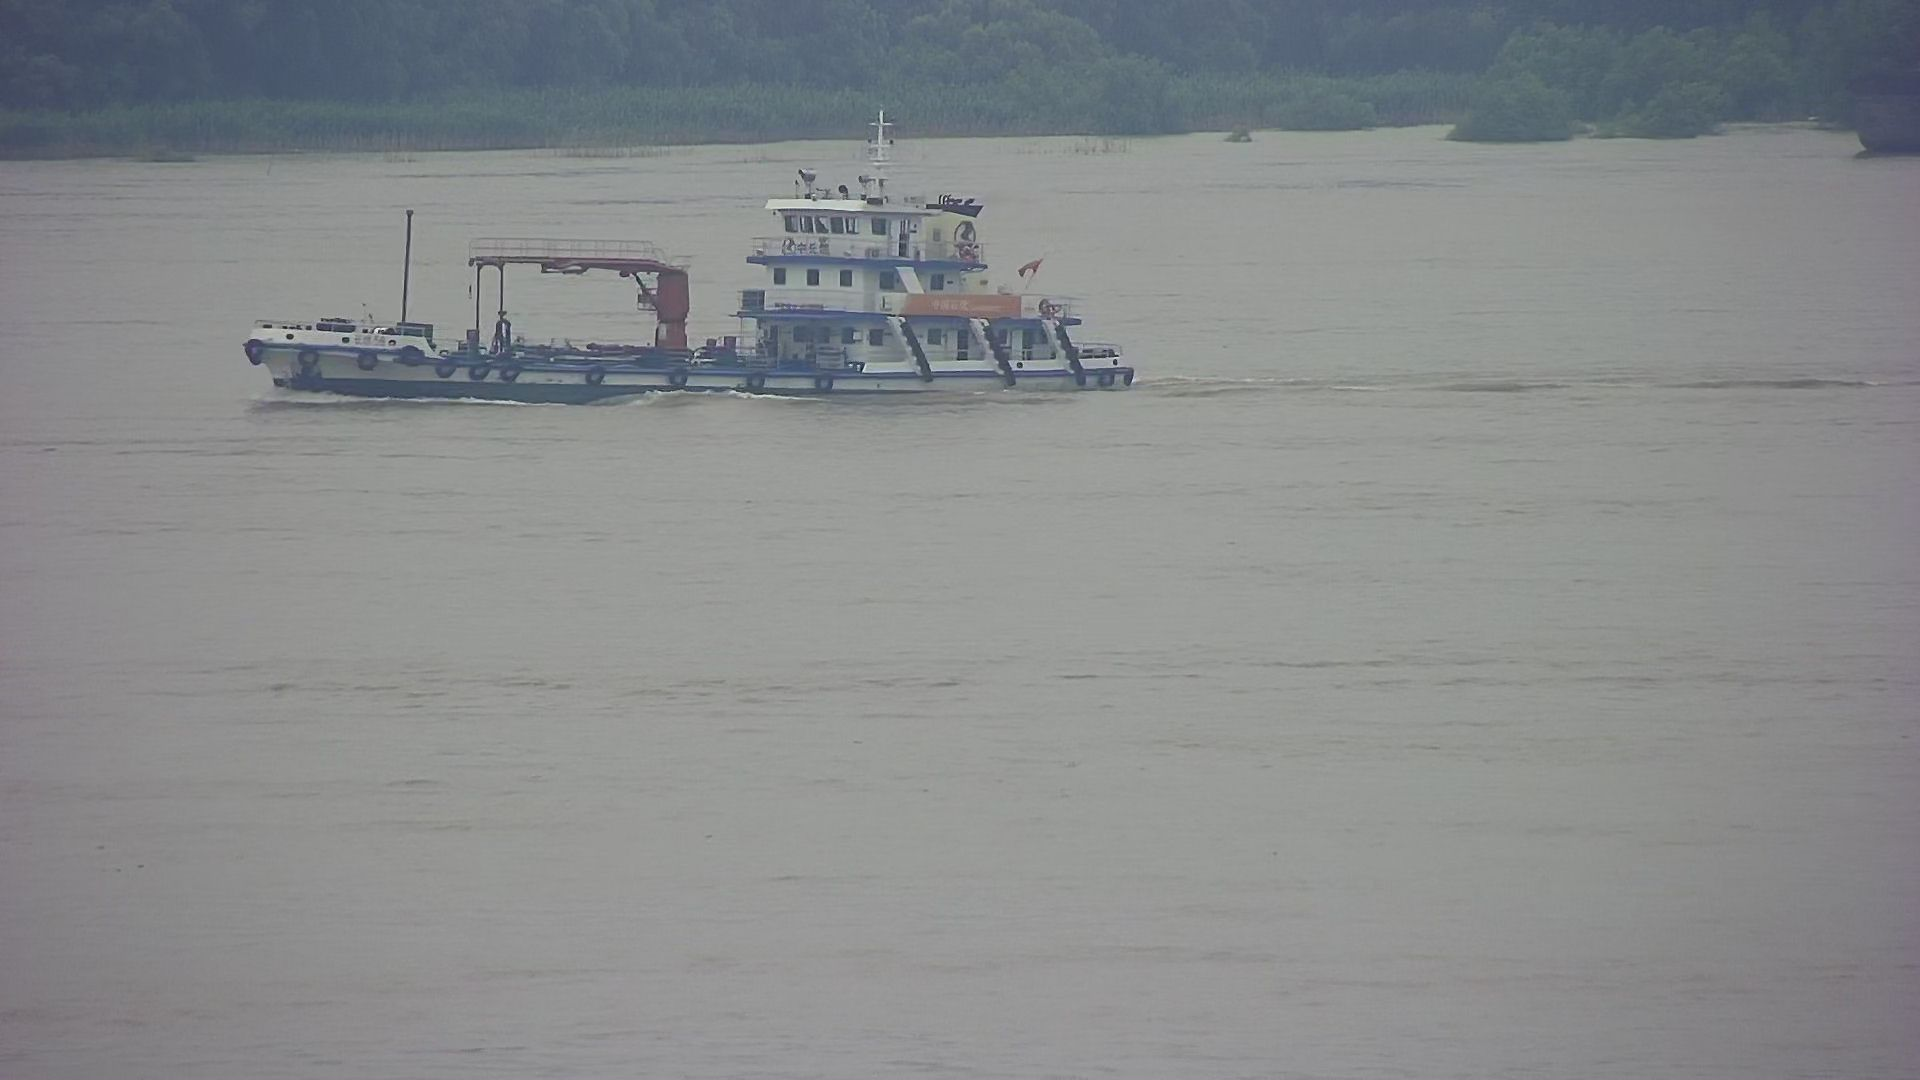ship: (196, 109, 1151, 436)
